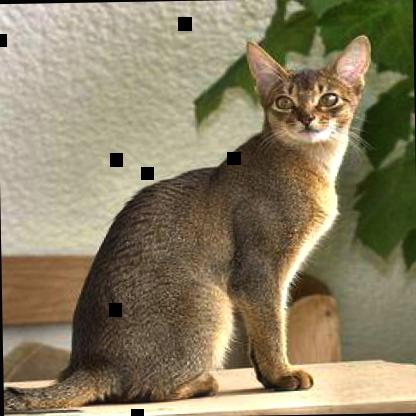cat: (0, 33, 382, 415)
